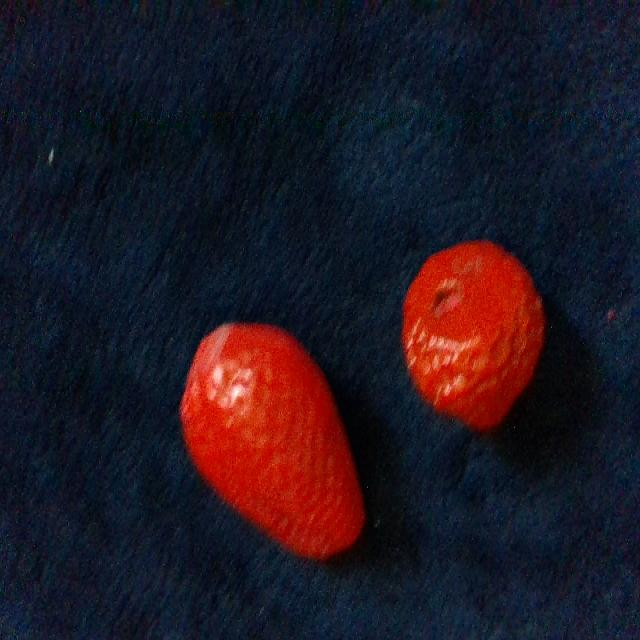chica_roja: (403, 241, 543, 429)
grande_roja: (181, 325, 364, 559)
